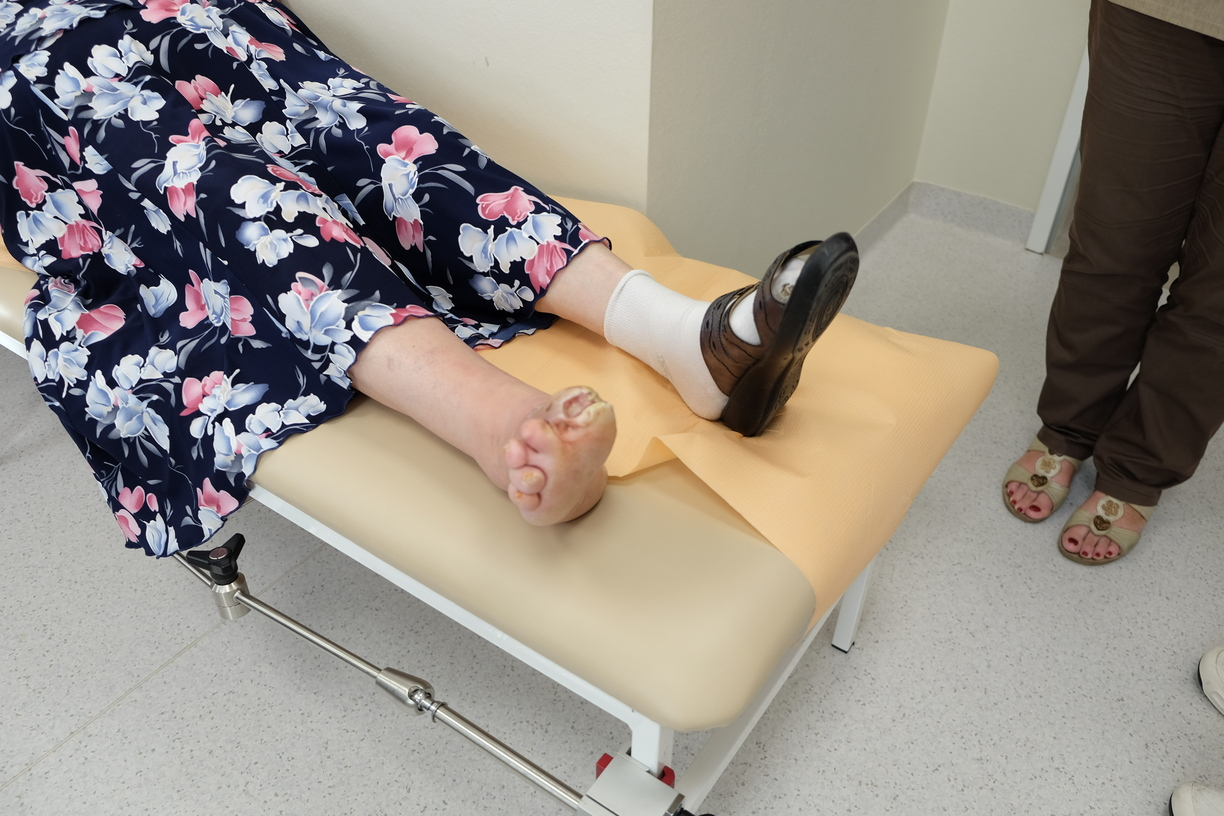wound: (556, 383, 610, 421)
